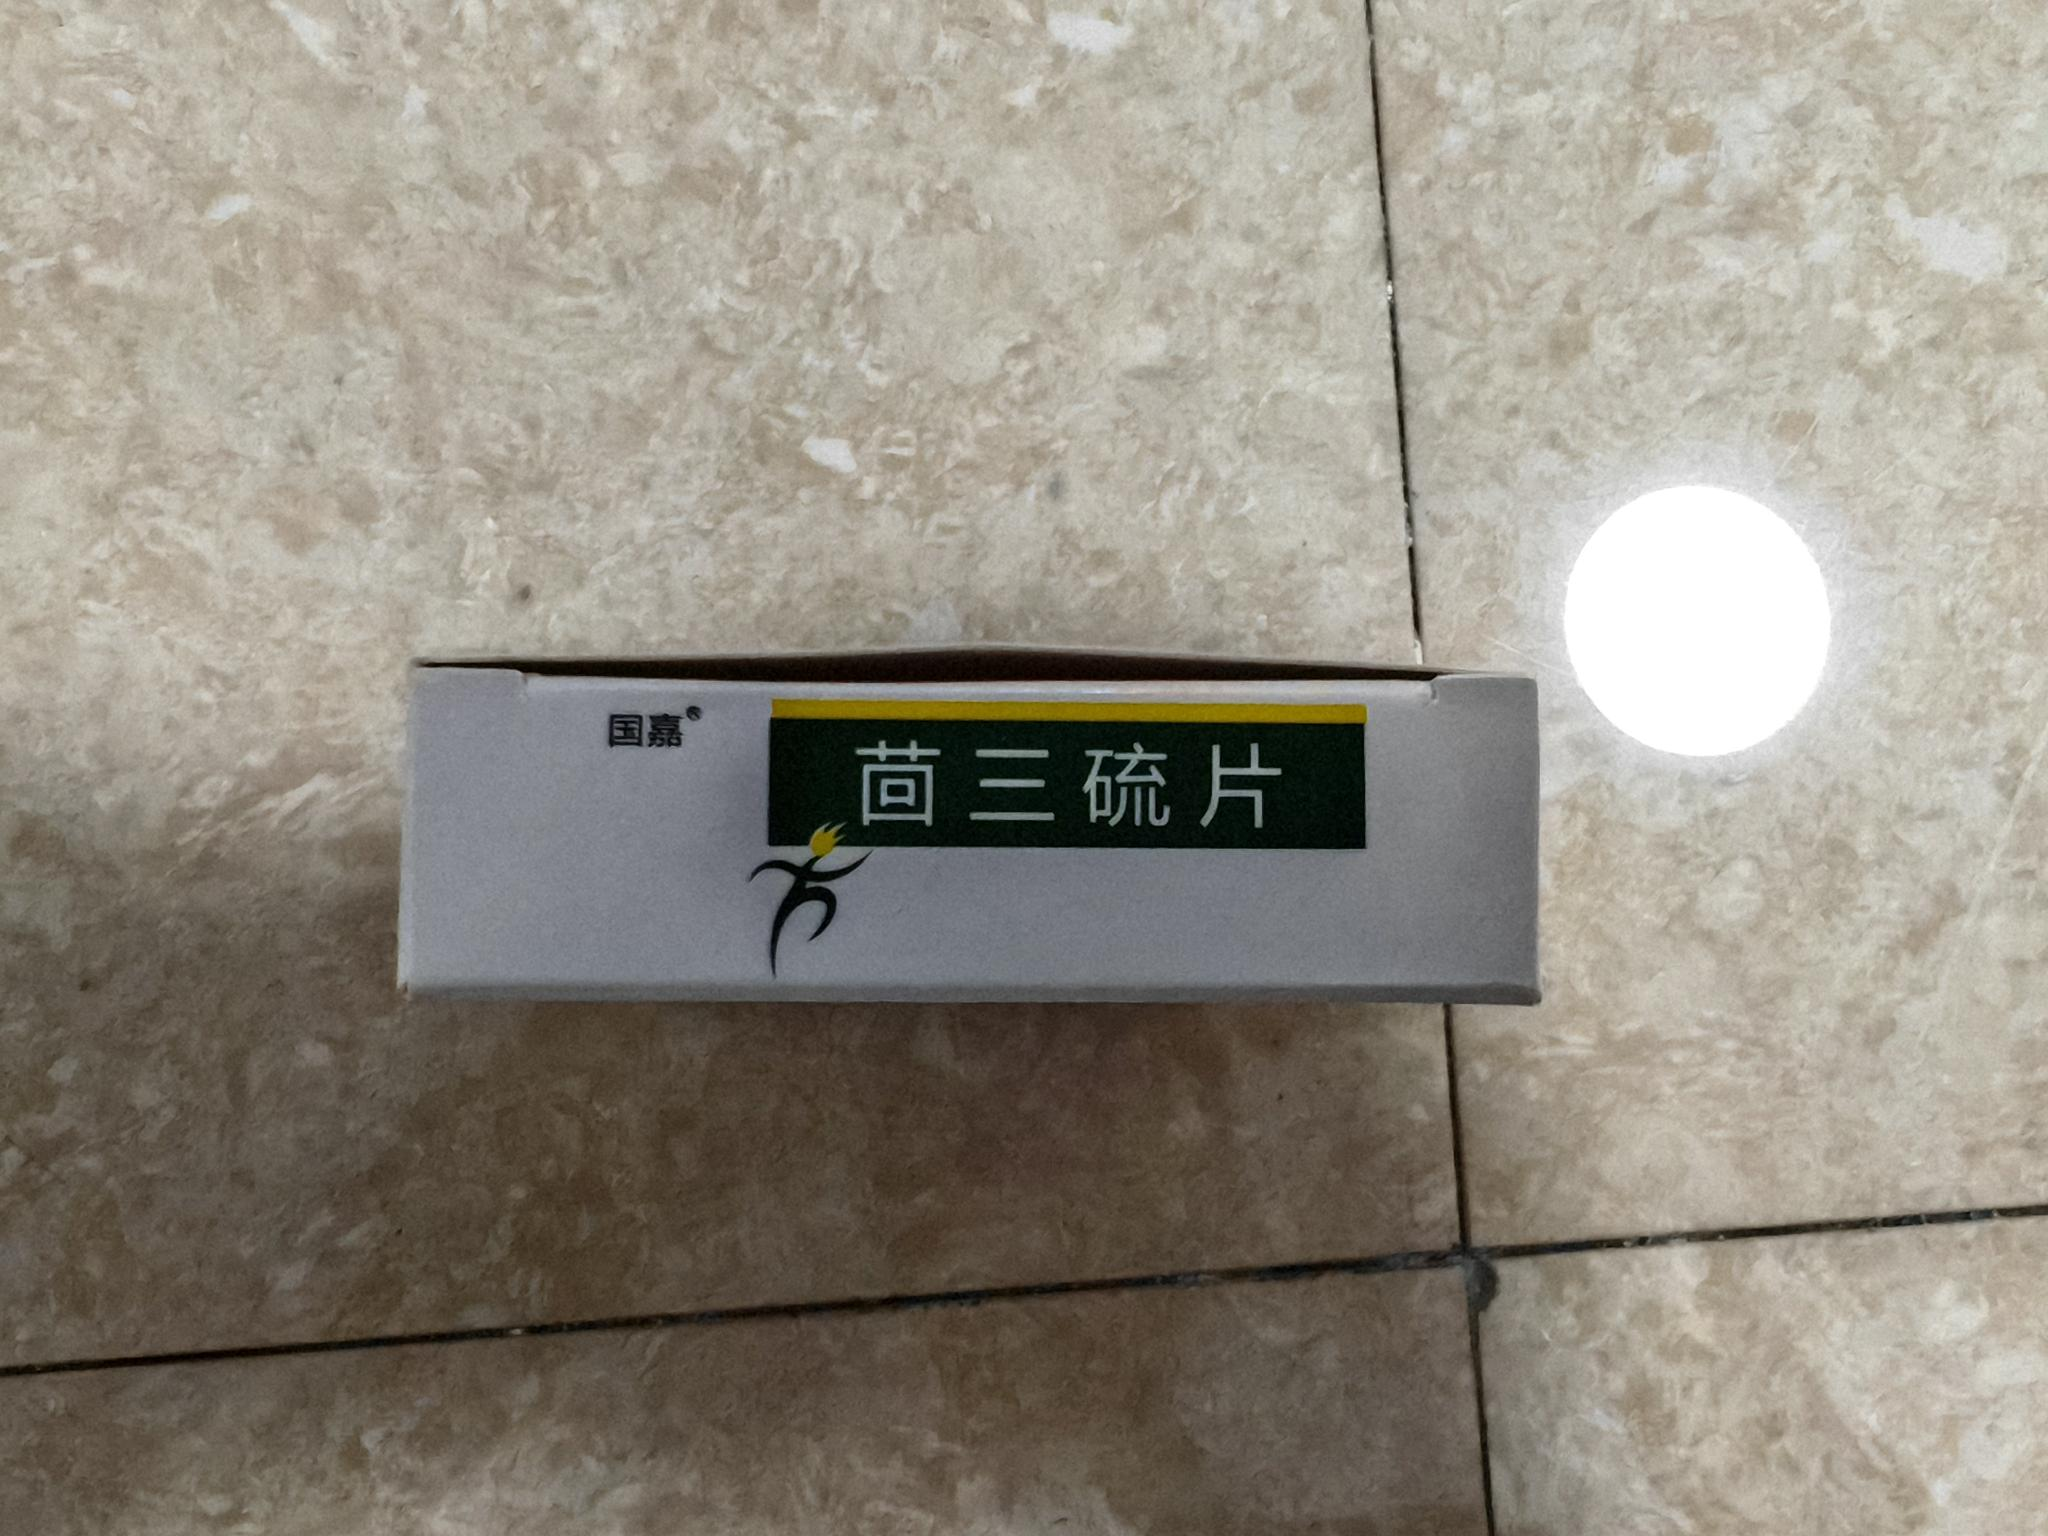Medicine4: (368, 623, 1567, 1037)
